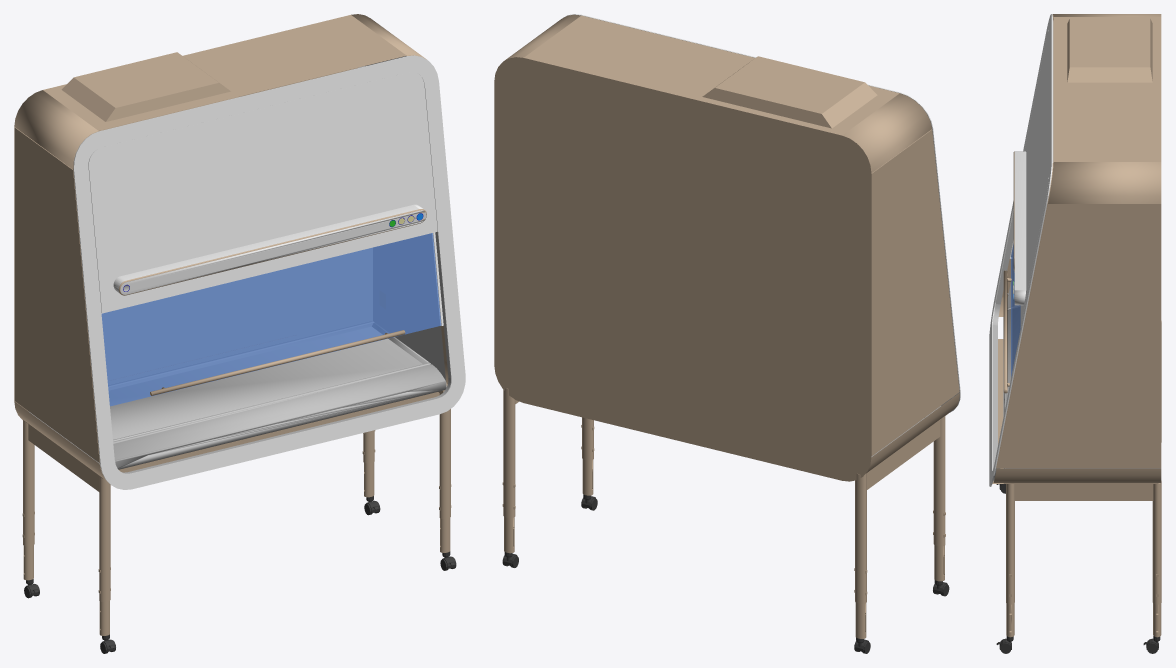
3 renders of one model, left to right at view 1: azimuth 30°, elevation 25°; view 2: azimuth 150°, elevation 25°; view 3: azimuth 270°, elevation 25°, orthographic. The views are drawn at different scales.
Visible parts, largest first — view 1: G-Object.101, G-Object.174, G-Object.102, C-コンポーネント#3, G-Object.118, C-_Defintion231, G-Object.097, C-_Defintion222, G-Object.147, G-Object.124, _G-Object.154 (Loose Mesh), C-コンポーネント#4.001 (+9 smaller); view 2: _G-Object.096 (Loose Mesh), C-コンポーネント#3, G-Object.097, G-Object.124, C-コンポーネント#4.001, G-Object.065, G-Object.079, G-Object.086, G-Object.062, C-コンポーネント#5.001, G-Object.102, C-コンポーネント#4; view 3: C-コンポーネント#3.001, G-Object.097, G-Object.124, C-コンポーネント#4, G-Object.101, G-Object.102, C-コンポーネント#5, G-Object.061, _G-Object.154 (Loose Mesh), G-Object.099, G-Object.065, G-Object.072 (+7 smaller).
Boxes of the visible parts, x1,y1,x2,y2 form: G-Object.101: (88, 72, 437, 313); G-Object.174: (101, 233, 441, 406); G-Object.102: (73, 55, 465, 489); C-コンポーネント#3: (14, 127, 99, 462); G-Object.118: (102, 248, 372, 384); C-_Defintion231: (108, 321, 430, 441); G-Object.097: (43, 15, 406, 130); C-_Defintion222: (113, 364, 446, 469); G-Object.147: (358, 56, 445, 380); G-Object.124: (61, 52, 238, 131); _G-Object.154 (Loose Mesh): (113, 204, 426, 295); C-コンポーネント#4.001: (14, 90, 98, 169); _G-Object.096 (Loose Mesh): (494, 57, 871, 481); C-コンポーネント#3: (871, 129, 959, 456); G-Object.097: (524, 15, 899, 135); G-Object.124: (702, 56, 877, 128); C-コンポーネント#4.001: (842, 93, 931, 173); G-Object.065: (503, 388, 515, 517); G-Object.079: (855, 473, 866, 603); G-Object.086: (933, 416, 945, 546); G-Object.062: (867, 420, 940, 489); C-コンポーネント#5.001: (866, 393, 959, 473); G-Object.102: (563, 14, 960, 412); C-コンポーネント#4: (494, 14, 580, 79); C-コンポーネント#3.001: (996, 203, 1161, 468); G-Object.097: (1053, 17, 1161, 161); G-Object.124: (1067, 18, 1152, 82); C-コンポーネント#4: (1047, 162, 1161, 203); G-Object.101: (1020, 30, 1048, 327); G-Object.102: (989, 14, 1052, 486); C-コンポーネント#5: (993, 468, 1161, 482); G-Object.061: (1014, 484, 1153, 500); _G-Object.154 (Loose Mesh): (1013, 151, 1026, 305); G-Object.099: (992, 20, 1053, 481); G-Object.065: (1152, 481, 1161, 604); G-Object.072: (1006, 484, 1014, 604).
Bounding box in the file's own units: 1.8 × 2.4 × 0.7638.
